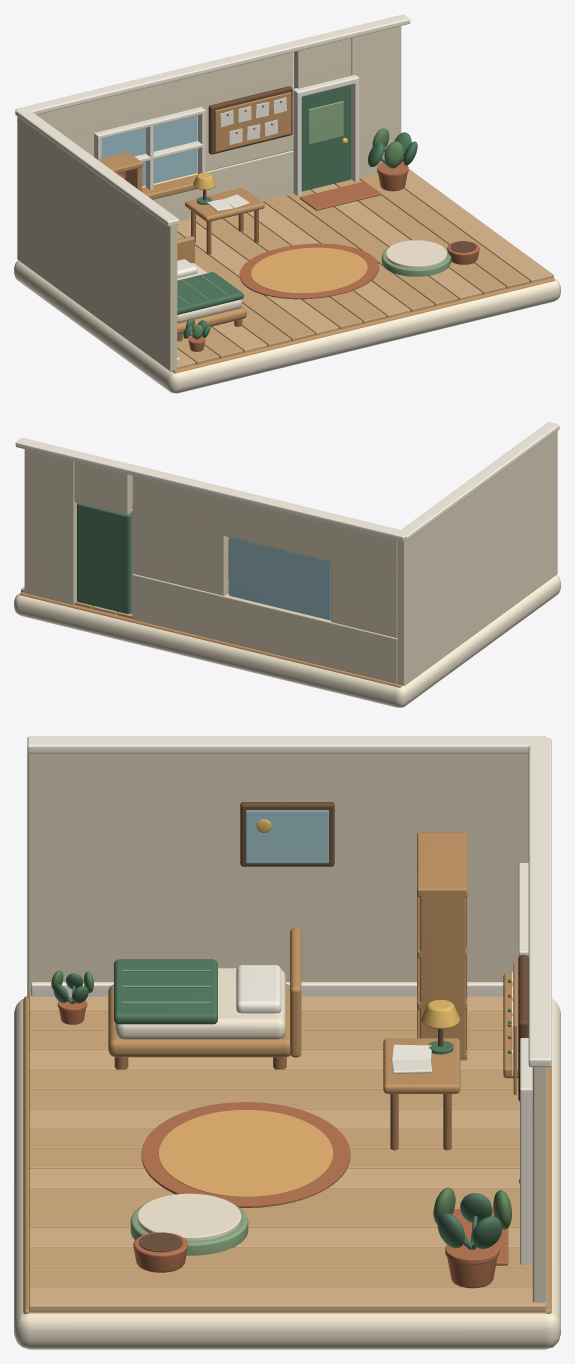
The model's file is home.glb.
3 renders of one model, top to bottom at view 1: azimuth 30°, elevation 25°; view 2: azimuth 150°, elevation 25°; view 3: azimuth 270°, elevation 25°, orthographic. The views are drawn at different scales.
Parts seen in each view (by area): view 1: Home_WI_wall, Home_WI_floor, Home_WI_cream, Home_WI_floorAlt, Home_WI_trim, Home_WI_rust, Home_WI_woodLight, rug inner weave, door leaf, Home_WI_blue, Home_WI_green, DepartureDoor_WI_trim (+10 smaller); view 2: Home_WI_wall, Home_WI_cream, Home_WI_trim, Home_WI_blue, door leaf, Home_WI_woodLight; view 3: Home_WI_wall, Home_WI_floor, Home_WI_floorAlt, Home_WI_cream, Home_WI_trim, Home_WI_woodLight, rug inner weave, Home_WI_green, Bookshelf_WI_woodLight, Home_WI_rust, Home_WI_blue, cushion top (+8 smaller).
Part boxes in pixels (x1,y1,x2,y2): Home_WI_wall: (17, 26, 401, 371); Home_WI_floor: (177, 173, 529, 364); Home_WI_cream: (14, 260, 560, 393); Home_WI_floorAlt: (177, 169, 553, 368); Home_WI_trim: (15, 14, 410, 365); Home_WI_rust: (188, 162, 479, 351); Home_WI_woodLight: (142, 174, 554, 373); rug inner weave: (251, 247, 367, 293); door leaf: (301, 85, 350, 191); Home_WI_blue: (101, 115, 197, 185); Home_WI_green: (177, 132, 417, 339); DepartureDoor_WI_trim: (293, 75, 359, 195); Home_WI_wall: (24, 431, 557, 685); Home_WI_cream: (14, 575, 560, 707); Home_WI_trim: (15, 422, 559, 593); Home_WI_blue: (229, 537, 330, 620); door leaf: (77, 503, 130, 613); Home_WI_woodLight: (20, 591, 402, 687); Home_WI_wall: (27, 752, 547, 1306); Home_WI_floor: (29, 1010, 532, 1287); Home_WI_floorAlt: (29, 993, 545, 1311); Home_WI_cream: (14, 968, 560, 1349); Home_WI_trim: (27, 736, 551, 1067); Home_WI_woodLight: (23, 927, 551, 1314); rug inner weave: (158, 1110, 333, 1197); Home_WI_green: (53, 959, 501, 1249); Bookshelf_WI_woodLight: (417, 832, 467, 1060); Home_WI_rust: (57, 997, 508, 1288); Home_WI_blue: (246, 810, 328, 863); cushion top: (137, 1193, 241, 1241).
Bounding box in the file's own units: 10.2 × 4.3 × 7.25.
